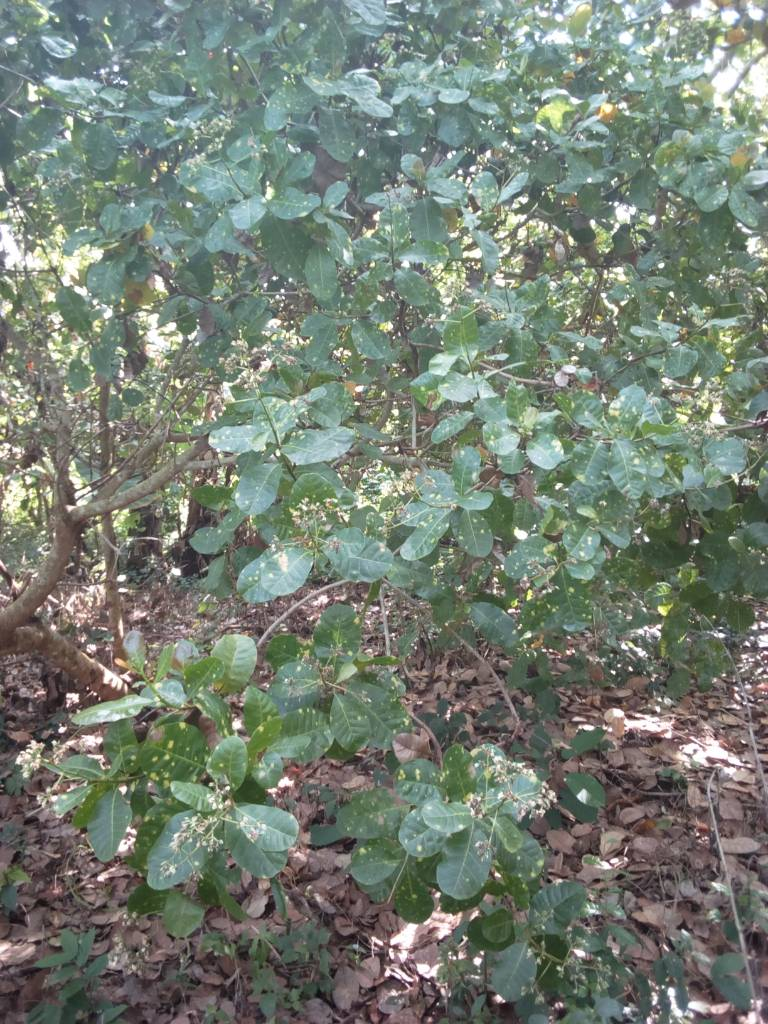Carence minérale: (259, 529, 345, 613), (597, 432, 669, 503), (226, 458, 288, 515), (201, 404, 268, 456), (442, 502, 502, 559), (253, 389, 296, 452)
